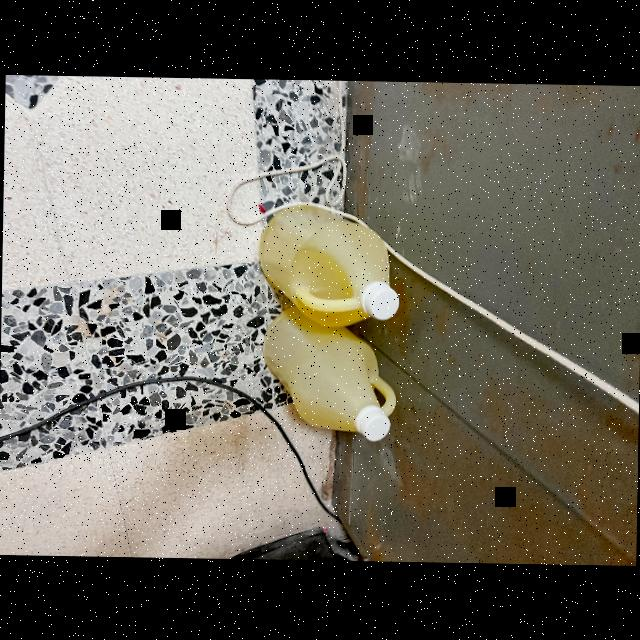chemical_plastic_gallon: (250, 197, 428, 326), (255, 304, 392, 464)
